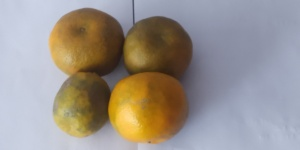BAD: (107, 70, 187, 144), (47, 8, 123, 77), (123, 14, 192, 78), (55, 73, 113, 137)
